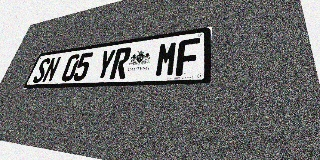0: (60, 54, 81, 82)
5: (72, 52, 94, 81)
F: (175, 38, 200, 76)
M: (154, 40, 178, 77)
N: (41, 56, 62, 83)
R: (109, 47, 132, 79)
S: (31, 58, 51, 83)
Y: (94, 49, 117, 80)
